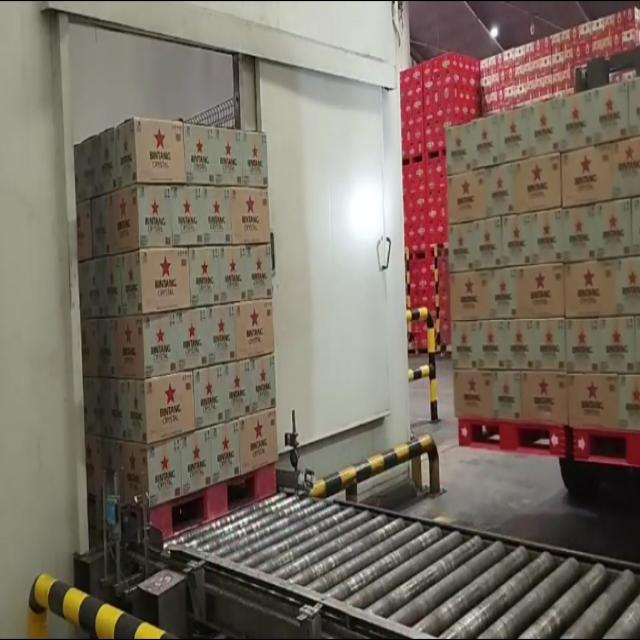pallet: (56, 97, 288, 547), (441, 99, 569, 475), (571, 69, 640, 488)
